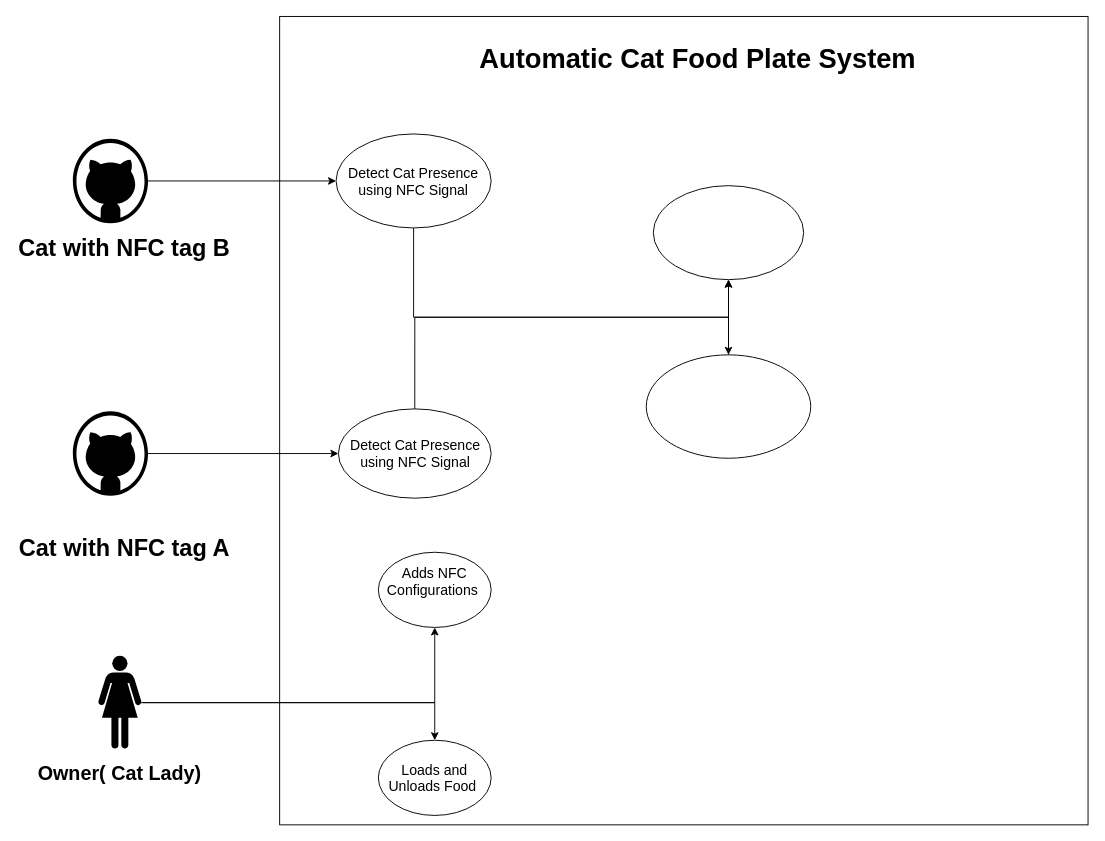
Some shapes in this 1105 by 841 pixel diagram are drawn without their labels. Each missing label, with the box of its shape:
Closes door after 5 seconds signal Absence: (645, 354, 811, 458)
Opens Door for Respective NFC tag: (652, 185, 804, 280)
